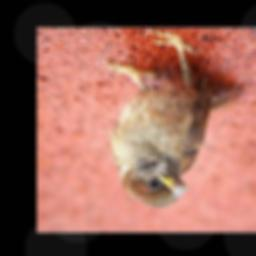Sparrow: (100, 29, 243, 209)
